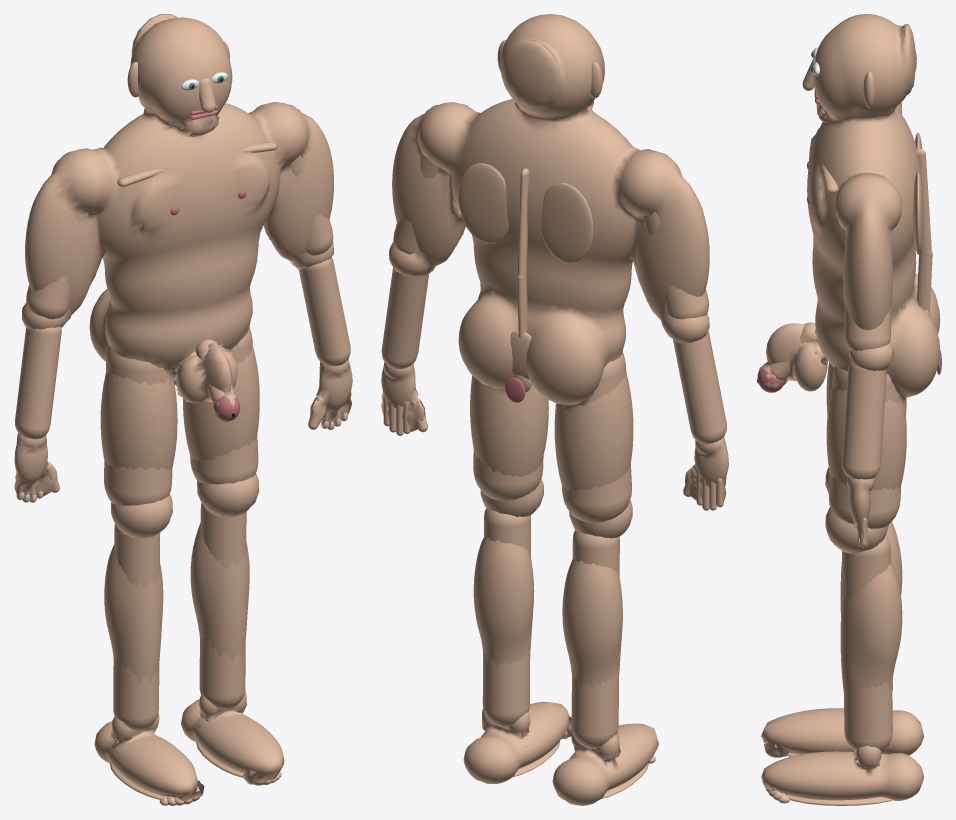
Rendered from body-erwachsener-divers-penis-keine-brueste-v2.glb.
The picture shows the model from 3 angles, left to right: view 1: azimuth 30°, elevation 25°; view 2: azimuth 150°, elevation 25°; view 3: azimuth 270°, elevation 25°; orthographic projection. The views are drawn at different scales.
Parts seen in each view (by area): view 1: zone__visual-surface-body-erwachsener-divers-penis-keine-bru, zone__surface-lower-leg-right, zone__surface-lower-leg-left, zone__surface-forearm-left, zone__surface-thigh-left, zone__surface-forearm-right, zone__surface-thigh-right, zone__surface-upper-arm-left, zone__surface-upper-arm-right; view 2: zone__visual-surface-body-erwachsener-divers-penis-keine-bru, zone__surface-lower-leg-left, zone__surface-lower-leg-right, zone__surface-forearm-left, zone__surface-forearm-right, zone__surface-scapula-left, zone__surface-scapula-right, zone__surface-thigh-left, zone__surface-thigh-right, zone__surface-upper-arm-left, zone__surface-thoracic-spine, zone__surface-upper-arm-right (+1 smaller); view 3: zone__visual-surface-body-erwachsener-divers-penis-keine-bru, zone__surface-lower-leg-right, zone__surface-forearm-right, zone__surface-thigh-right, zone__surface-upper-arm-right, zone__surface-thoracic-spine, zone__surface-lumbar-spine, zone__surface-scapula-right, zone__surface-sole-right, zone__surface-penis, zone__surface-glans, zone__surface-ear-right (+1 smaller).
Part boxes in pixels (box(x1,y1,x2,y2)): zone__visual-surface-body-erwachsener-divers-penis-keine-bru: box(14, 14, 352, 800); zone__surface-lower-leg-right: box(199, 503, 246, 709); zone__surface-lower-leg-left: box(113, 524, 160, 730); zone__surface-forearm-left: box(15, 326, 61, 439); zone__surface-thigh-left: box(104, 346, 172, 505); zone__surface-forearm-right: box(299, 257, 350, 366); zone__surface-thigh-right: box(190, 327, 258, 484); zone__surface-upper-arm-left: box(26, 213, 88, 319); zone__surface-upper-arm-right: box(290, 155, 333, 255); zone__visual-surface-body-erwachsener-divers-penis-keine-bru: box(381, 14, 728, 805); zone__surface-lower-leg-left: box(571, 530, 619, 748); zone__surface-lower-leg-right: box(482, 508, 530, 727); zone__surface-forearm-left: box(673, 330, 726, 443); zone__surface-forearm-right: box(381, 267, 428, 368); zone__surface-scapula-left: box(541, 182, 593, 263); zone__surface-scapula-right: box(458, 163, 508, 243); zone__surface-thigh-left: box(562, 352, 631, 522); zone__surface-thigh-right: box(473, 449, 543, 500); zone__surface-upper-arm-left: box(643, 212, 709, 319); zone__surface-thoracic-spine: box(517, 168, 529, 281); zone__surface-upper-arm-right: box(393, 155, 454, 254); zone__visual-surface-body-erwachsener-divers-penis-keine-bru: box(757, 14, 940, 800); zone__surface-lower-leg-right: box(842, 535, 892, 751); zone__surface-forearm-right: box(842, 359, 886, 479); zone__surface-thigh-right: box(829, 367, 900, 528); zone__surface-upper-arm-right: box(844, 229, 891, 351); zone__surface-thoracic-spine: box(915, 148, 931, 258); zone__surface-lumbar-spine: box(917, 251, 932, 313); zone__surface-scapula-right: box(913, 171, 923, 254); zone__surface-sole-right: box(786, 794, 892, 805); zone__surface-penis: box(770, 322, 817, 380); zone__surface-glans: box(757, 368, 784, 392); zone__surface-ear-right: box(863, 71, 875, 108).
Size of the model in its own units: 0.8174 by 1.72 by 0.3807.
